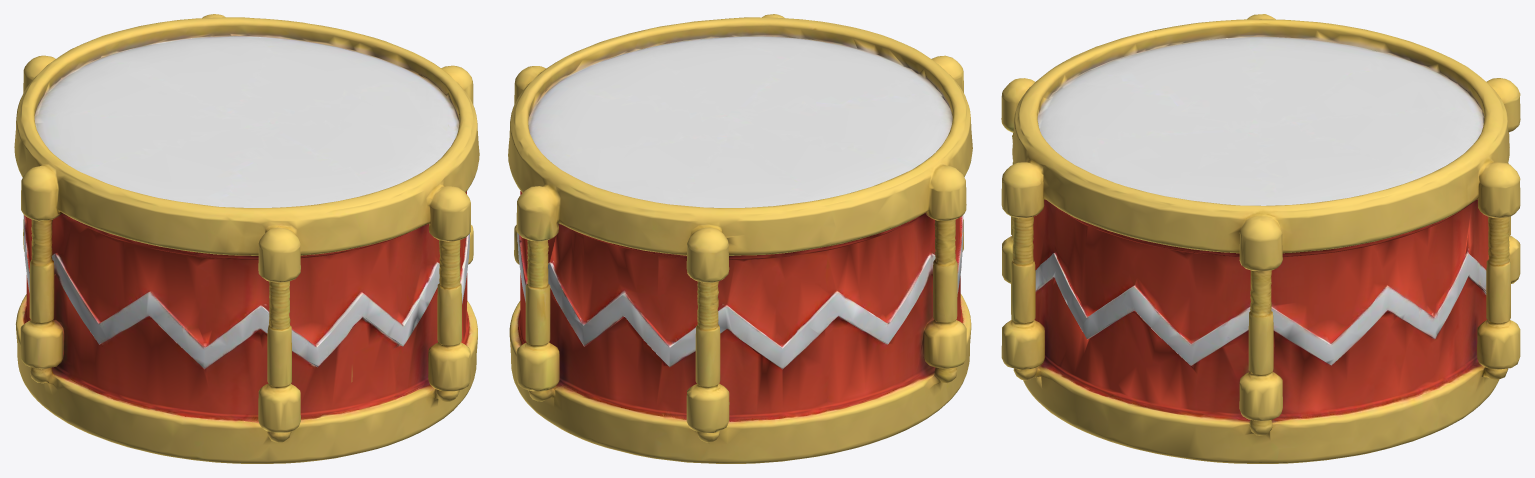
The model's file is drum.glb.
The picture shows the model from 3 angles, left to right: view 1: azimuth 30°, elevation 25°; view 2: azimuth 150°, elevation 25°; view 3: azimuth 270°, elevation 25°; orthographic projection.
Parts seen in each view (by area): view 1: tripo_node_1911cb73-a4d3-40df-9d1b-334f008876d5; view 2: tripo_node_1911cb73-a4d3-40df-9d1b-334f008876d5; view 3: tripo_node_1911cb73-a4d3-40df-9d1b-334f008876d5.
Part boxes in pixels (x1,y1,x2,y2): tripo_node_1911cb73-a4d3-40df-9d1b-334f008876d5: (14,14,479,463); tripo_node_1911cb73-a4d3-40df-9d1b-334f008876d5: (508,14,972,463); tripo_node_1911cb73-a4d3-40df-9d1b-334f008876d5: (1001,14,1520,463).
Bounding box in the file's own units: 1 × 0.547 × 0.9939.
Materials: 1 (1 with a texture image).
